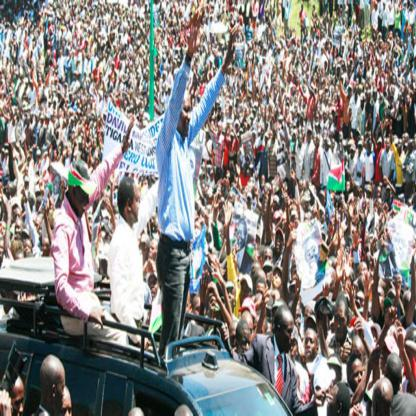face: (179, 95, 191, 137), (128, 184, 140, 222), (56, 373, 66, 413), (10, 390, 25, 416), (282, 318, 294, 350), (76, 185, 88, 217), (239, 332, 252, 360), (335, 311, 347, 341), (230, 327, 242, 357), (353, 362, 364, 393), (327, 388, 338, 416), (305, 332, 316, 359), (195, 298, 206, 325), (148, 275, 160, 298), (184, 292, 193, 322), (381, 347, 391, 373), (61, 395, 73, 416), (369, 328, 379, 352), (304, 306, 314, 330), (241, 282, 251, 304), (356, 294, 366, 315), (292, 309, 301, 332), (226, 288, 236, 308), (148, 243, 157, 263), (265, 250, 273, 272), (238, 226, 245, 248), (291, 340, 298, 361), (24, 241, 33, 257), (274, 271, 282, 288), (140, 244, 148, 261), (14, 210, 22, 227), (360, 267, 368, 283), (16, 223, 23, 239), (277, 234, 283, 252), (293, 269, 299, 283), (304, 215, 309, 228), (320, 195, 325, 206), (295, 214, 299, 227), (1, 241, 4, 258), (331, 215, 336, 225), (378, 200, 382, 211), (308, 130, 312, 141), (352, 199, 356, 210), (386, 140, 390, 150), (378, 189, 382, 199), (347, 181, 351, 191), (378, 141, 382, 150), (359, 143, 363, 152), (351, 148, 355, 157), (403, 134, 407, 143), (369, 141, 372, 152), (399, 141, 402, 151), (203, 185, 206, 195), (388, 187, 391, 196), (12, 187, 15, 196), (317, 137, 320, 146), (324, 131, 327, 140), (331, 130, 334, 139), (342, 201, 345, 209), (55, 151, 58, 159), (302, 128, 305, 136), (362, 136, 365, 144), (368, 192, 371, 198), (360, 191, 362, 197)
